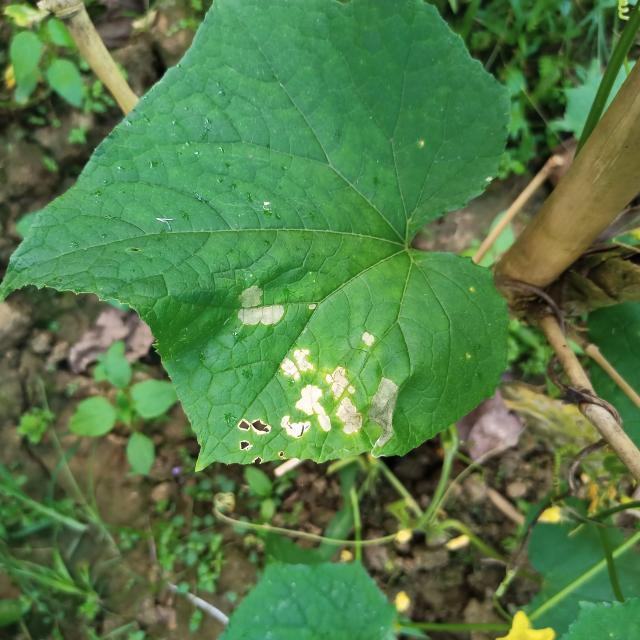disease_cucumber: (234, 342, 406, 454), (234, 283, 286, 330)
